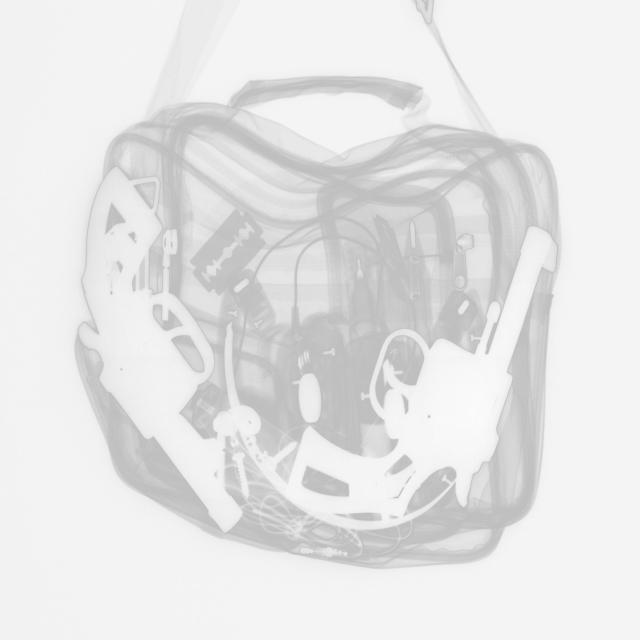pistol: (289, 226, 557, 526), (80, 164, 245, 534)
